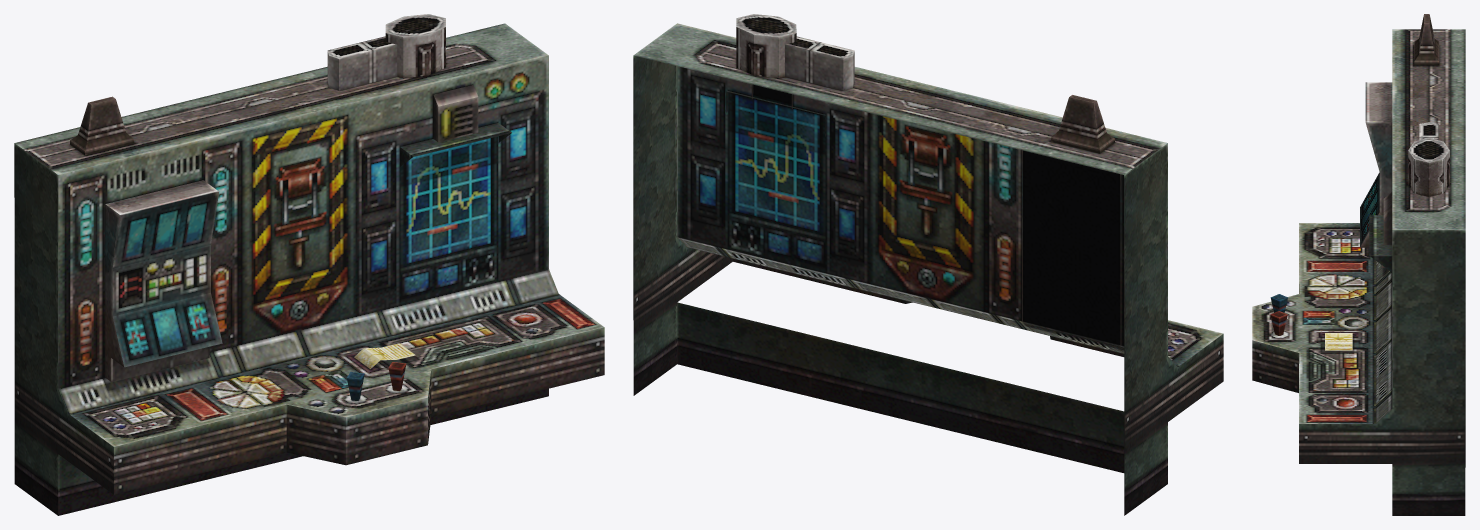
File: verus-monitor.glb
3 views of the same model, side by side, from view 1: azimuth 30°, elevation 25°; view 2: azimuth 150°, elevation 25°; view 3: azimuth 270°, elevation 25° (orthographic). The views are drawn at different scales.
Parts seen in each view (by area): view 1: monitor01; view 2: monitor01; view 3: monitor01.
Boxes of the visible parts, left/top/right/bottom form: monitor01: left=14, top=14, right=604, bottom=515; monitor01: left=633, top=14, right=1223, bottom=515; monitor01: left=1252, top=14, right=1465, bottom=515.
Size of the model in its own units: 0.1 by 0.0748 by 0.0449.
Materials: 3 (3 with a texture image).
